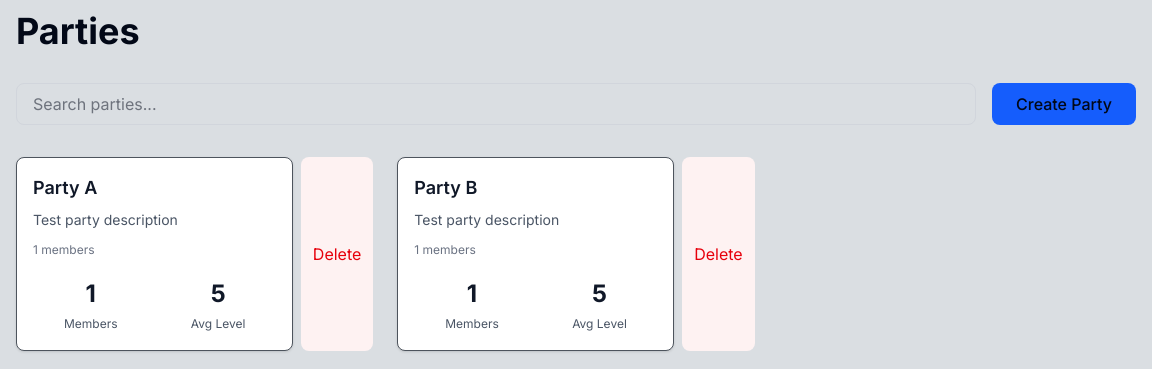
Test: PartyListPage › search and filter › shows all parties when search is cleared
This screenshot has width=1152, height=369.
Type "Party A" into the field labelled "Search parties...". click: (496, 104)
box: [16,83,976,125]
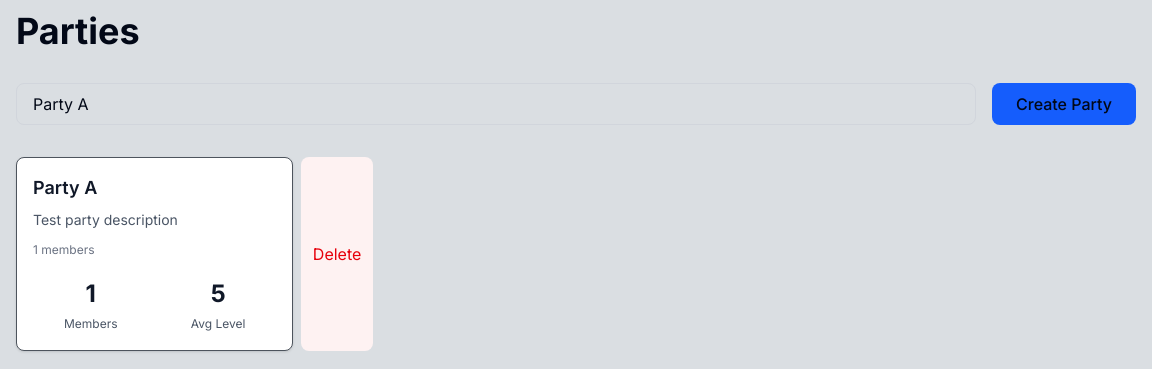
Clear the field named "Search or filter parties". click: (496, 104)
box: [16,83,976,125]
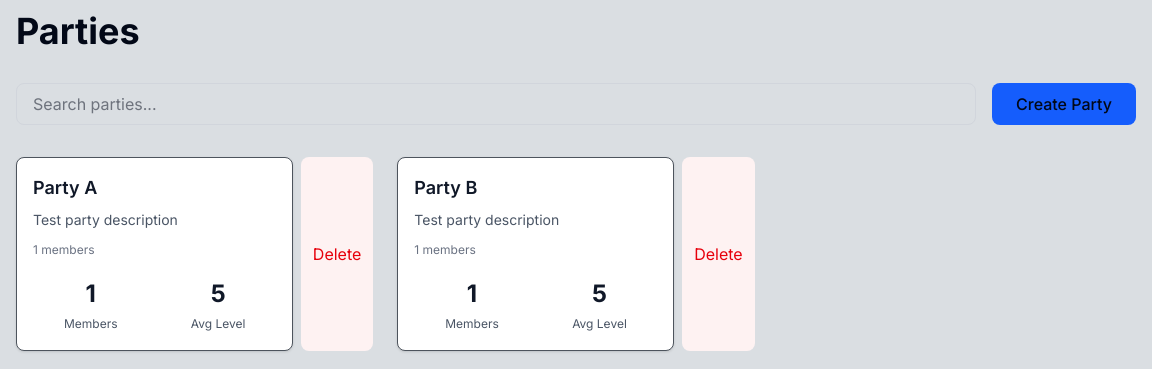
expect the heading "Party A" is shown: met, box [33,177,97,198]
expect the heading "Party B" is shown: met, box [414,177,477,198]
